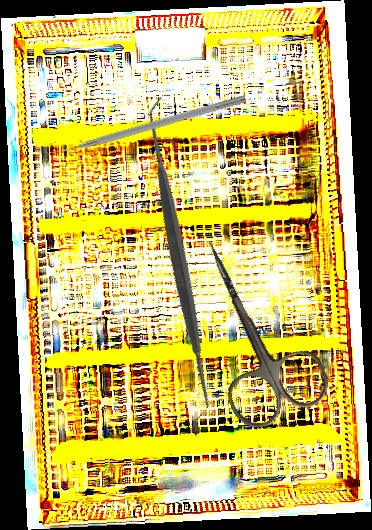Chopper: (46, 84, 247, 159)
Iris Scissors: (166, 220, 336, 437)
Spatula Surgical: (16, 96, 342, 421)
